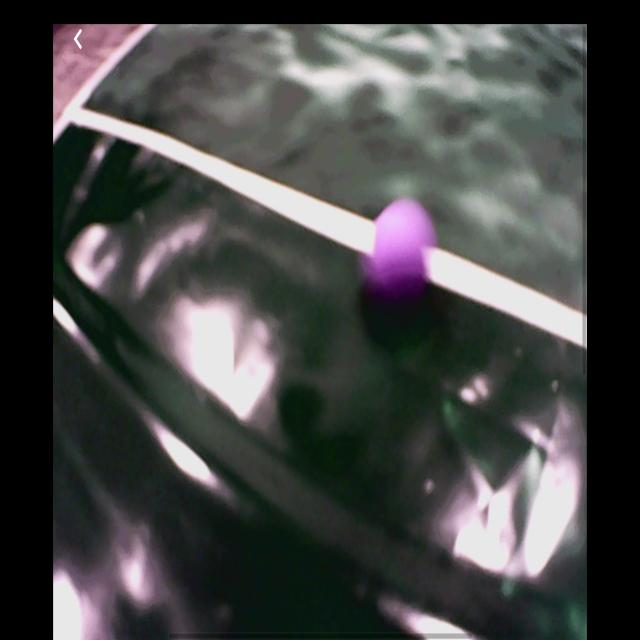ball: (360, 196, 439, 305)
